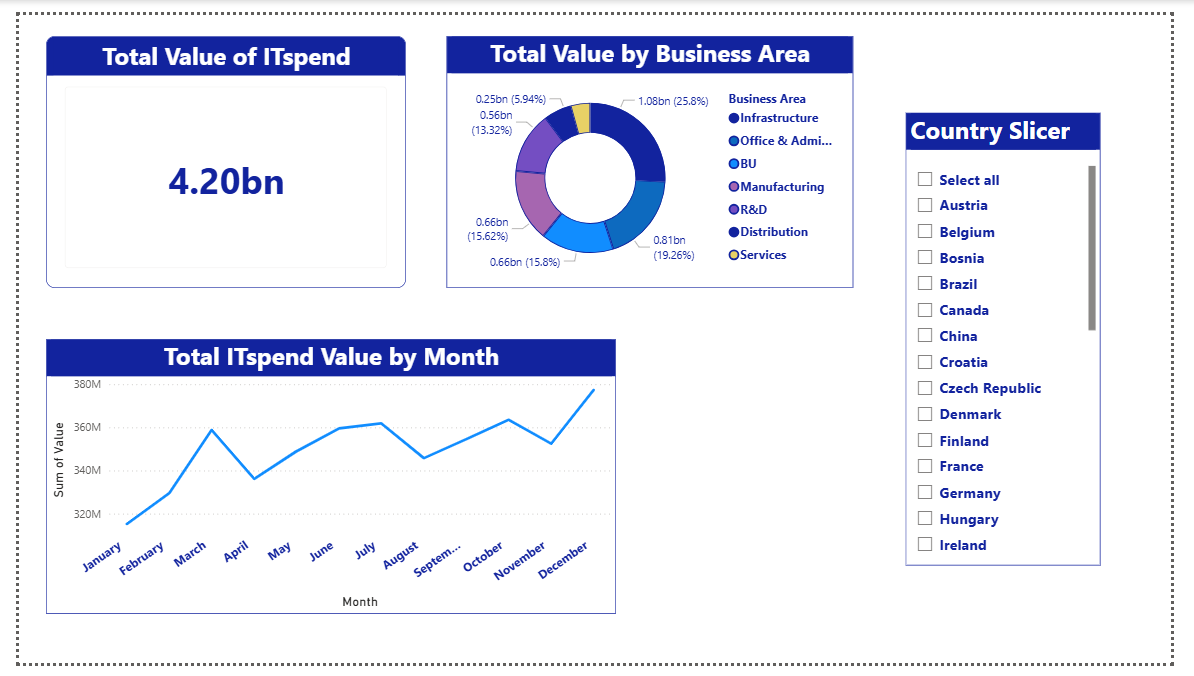

What the dashboard file says about the page in this screenshot:
{"tool":"powerbi","page":{"name":"Page 1","canvas":[1280,720],"ordinal":0},"visuals":[{"type":"cardVisual","title":"Total Value of ITspend","fields":{"Data":["Sum(Fact Table.Value)"]},"box":[30,23.3,400,280],"z":0},{"type":"donutChart","title":"Total Value by Business Area","fields":{"Category":["Fact Table.Business Area"],"Y":["Sum(Fact Table.Value)"]},"box":[475,23.3,451.7,280],"z":1000},{"type":"lineChart","title":"Total ITspend Value by Month","fields":{"Y":["Sum(Fact Table.Value)"],"Category":["Fact Table.Date.Variation.Date Hierarchy.Month"]},"box":[30,360,633.3,305],"z":2000},{"type":"slicer","title":"Country Slicer","fields":{"Values":["Fact Table.Country"]},"box":[985,108.3,216.7,503.3],"z":3000}]}

Visuals, with their boxes in screenshot pixels (x1, y1, x2, y2), scaled from the page's 1280x720 canvas onto the 1194x676 screenshot:
"Total Value of ITspend" cardVisual: (28, 22, 401, 285)
"Total Value by Business Area" donutChart: (443, 22, 864, 285)
"Total ITspend Value by Month" lineChart: (28, 338, 619, 624)
"Country Slicer" slicer: (919, 102, 1121, 574)
